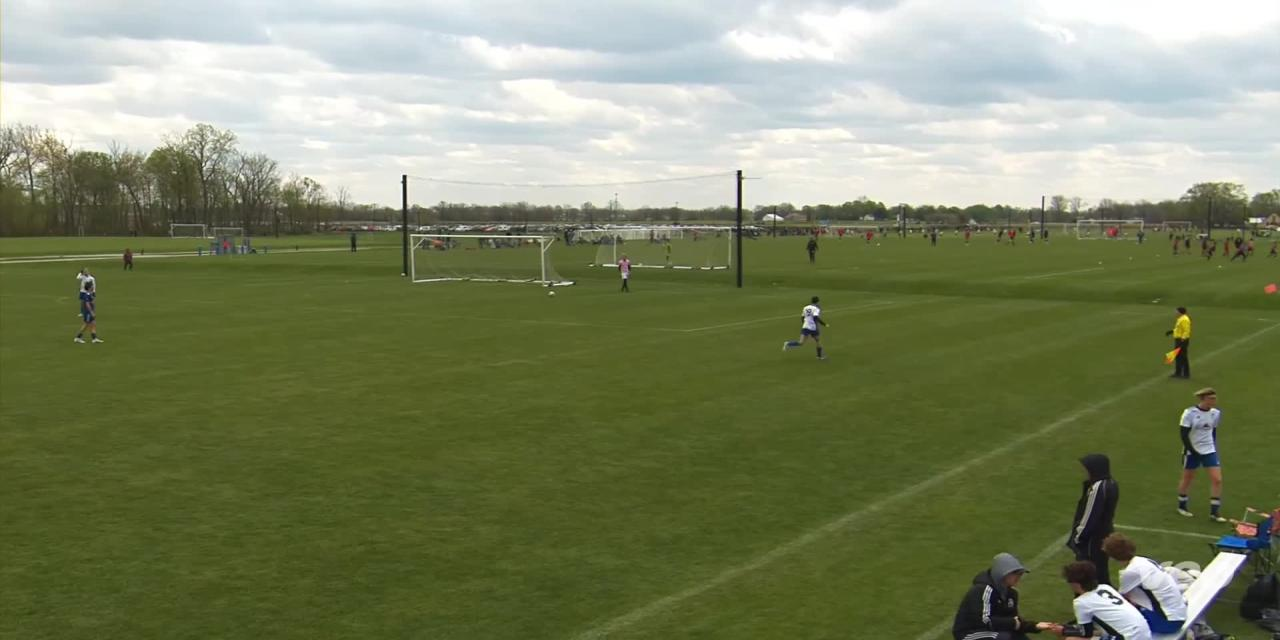goal: (395, 227, 599, 290)
sports ball: (545, 284, 561, 298)
